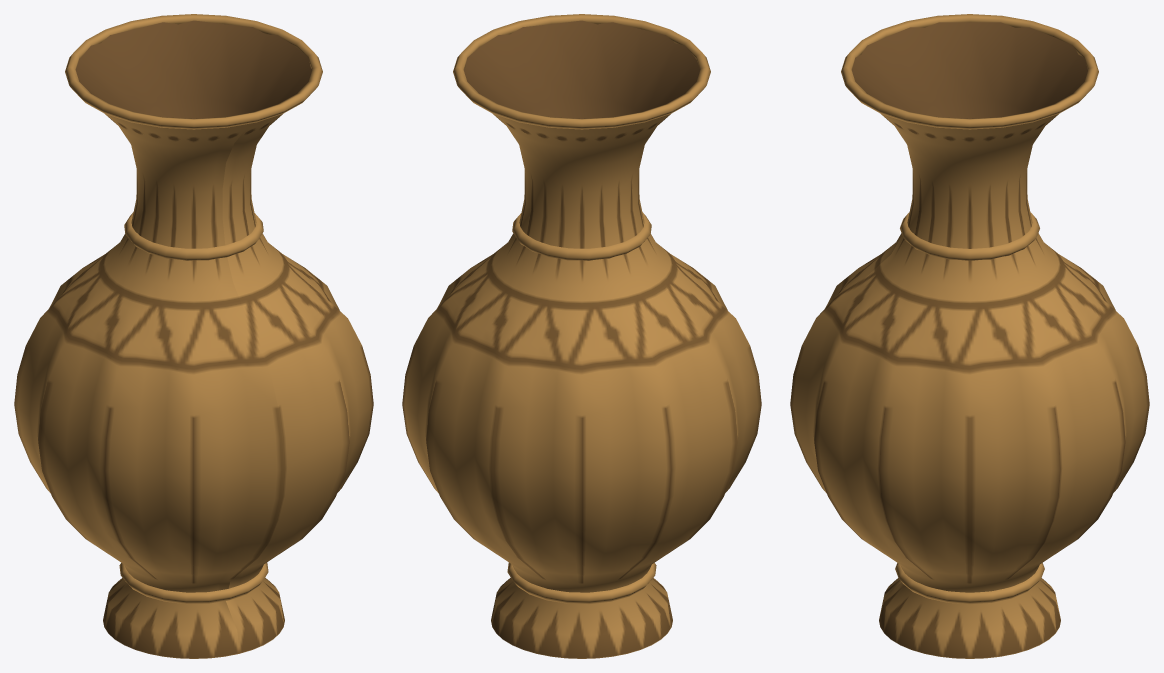
The model's file is prop-brass-vase.glb.
3 renders of one model, left to right at view 1: azimuth 30°, elevation 25°; view 2: azimuth 150°, elevation 25°; view 3: azimuth 270°, elevation 25°, orthographic.
Visible parts, largest first — view 1: piece_EngravedBrass, piece_BrassDark, piece_Brass; view 2: piece_EngravedBrass, piece_BrassDark, piece_Brass; view 3: piece_EngravedBrass, piece_BrassDark, piece_Brass.
Boxes of the visible parts, left/top/right/bottom form: piece_EngravedBrass: left=14, top=114, right=373, bottom=658; piece_BrassDark: left=75, top=20, right=312, bottom=118; piece_Brass: left=65, top=14, right=322, bottom=604; piece_EngravedBrass: left=402, top=114, right=761, bottom=658; piece_BrassDark: left=463, top=20, right=700, bottom=118; piece_Brass: left=453, top=14, right=710, bottom=604; piece_EngravedBrass: left=790, top=114, right=1149, bottom=658; piece_BrassDark: left=852, top=22, right=1087, bottom=118; piece_Brass: left=841, top=14, right=1098, bottom=604.
Bounding box in the file's own units: 0.1894 × 0.3219 × 0.1894.
3 materials, 1 textured.
